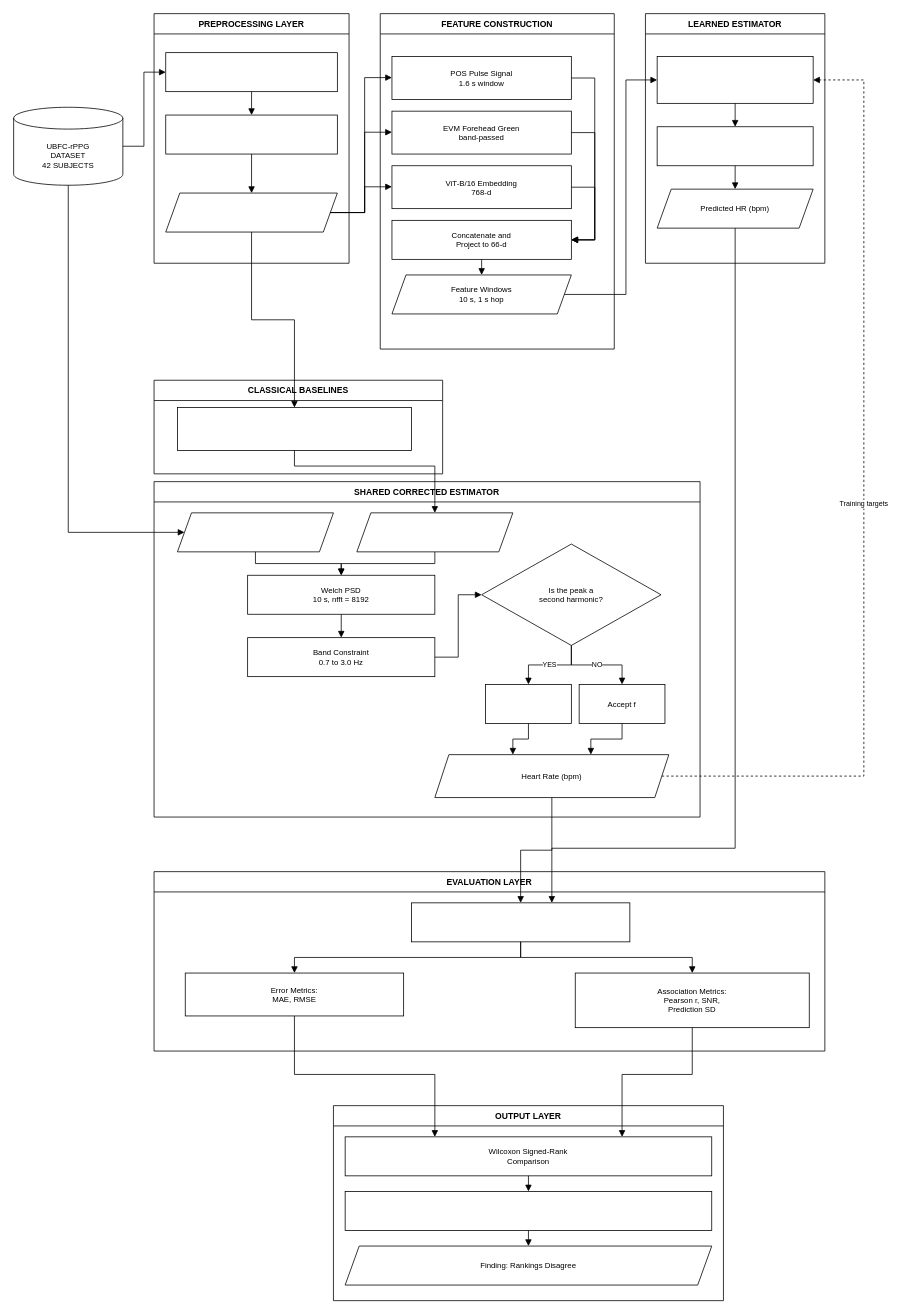
The diagram is 902 pixels wide and 1314 high, and some of its shapes have lost their labels. The centre of each missing label's shape, as x and y in pixels:
Baseline Pulse Signals: [434,532]
BiLSTM Regressor 2 layers, 64 units: [734,79]
Contact BVP (ground_truth.txt): [255,532]
Face Detection (Haar Cascade): [251,72]
GREEN, CHROM, POS, ICA, PCA: [294,428]
Ranking Under Each Metric: [528,1210]
RGB Mean Time Series: [251,212]
Skin Segmentation (YCrCb): [251,134]
Subject-Held-Out Inference: [734,146]
Subject-Wise Five-Fold Protocol: [520,922]
Take f / 2: [528,703]
